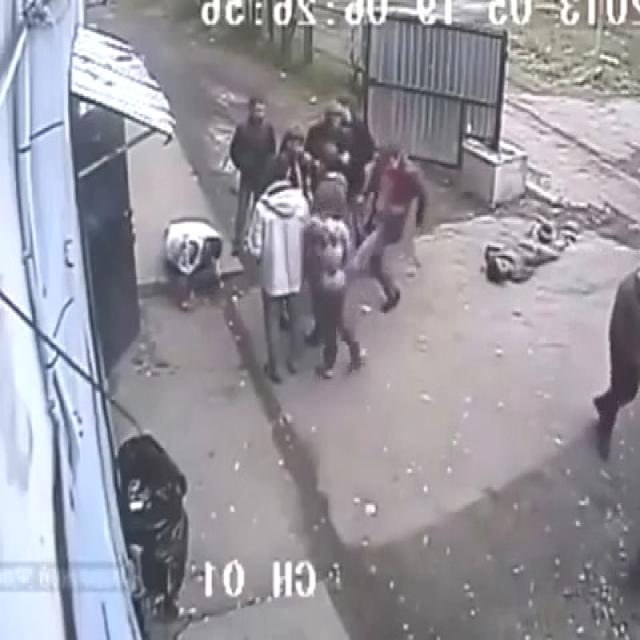fight: (306, 140, 426, 382), (281, 116, 347, 268)
